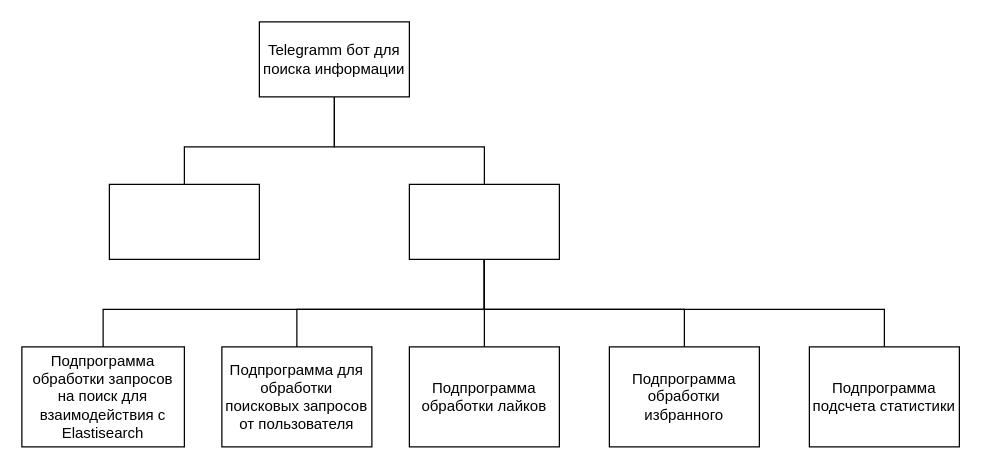
This 981x469 diagram has some shape labels left out. Here are the shapes that lost their labels. From the top down, the box of each, then its label:
(108, 183, 259, 259): Модуль для взаимодействия с Telegramm API
(408, 183, 559, 259): Модуль с логикой обработки информации
